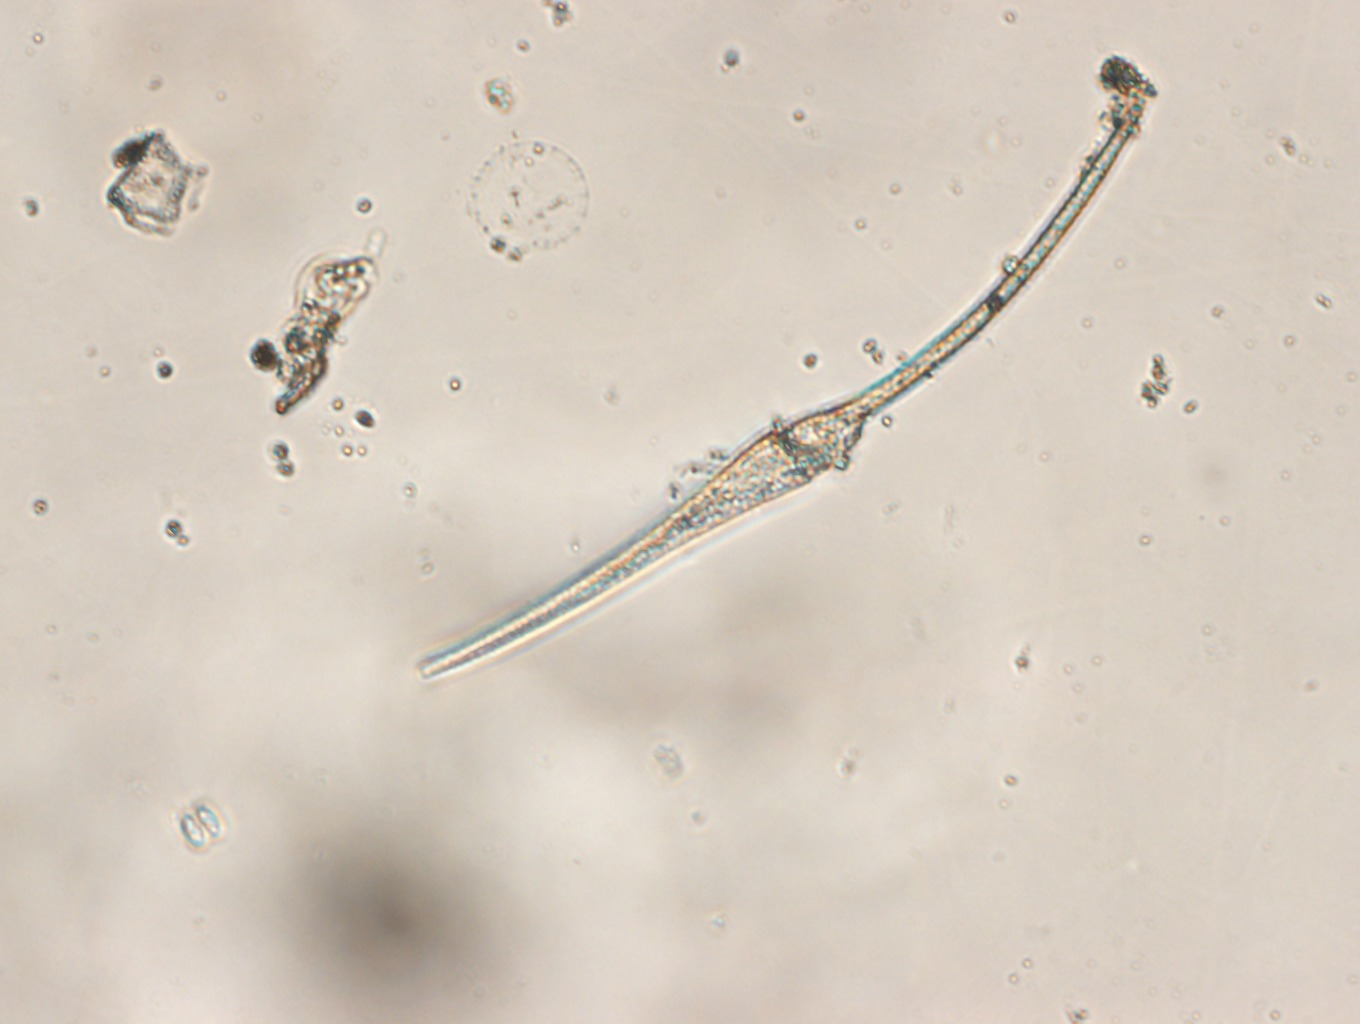ceratium fusus: (420, 103, 1147, 677)
